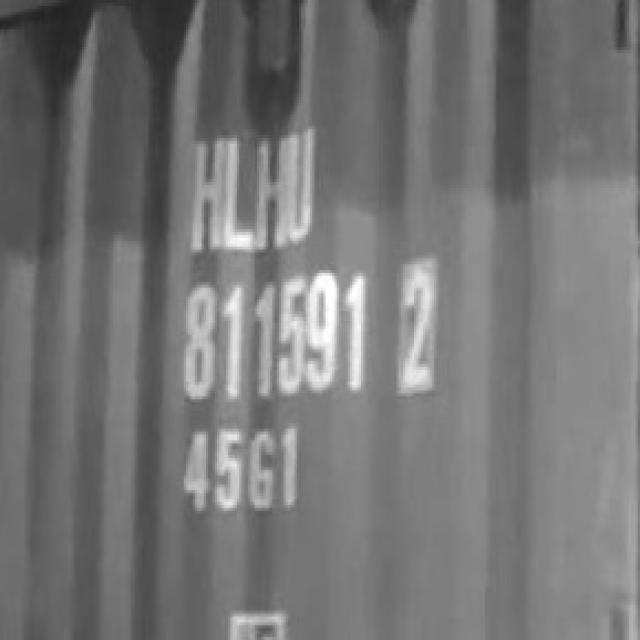dv: (391, 254, 441, 402)
owner: (177, 114, 326, 260)
serial: (170, 269, 375, 408)
size: (178, 415, 313, 519)
